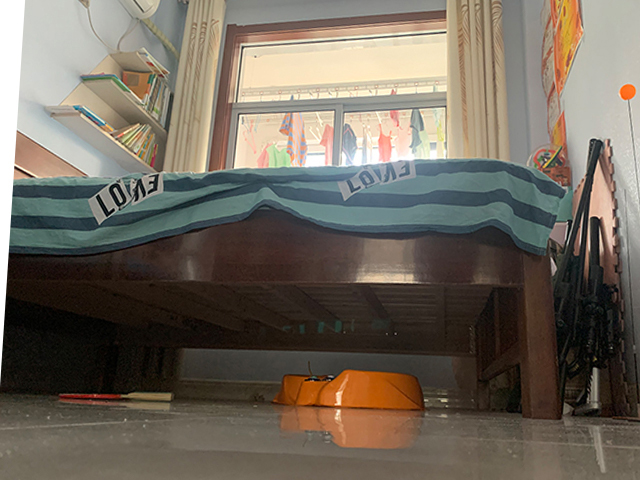bed: (9, 131, 569, 421)
curtain: (153, 1, 222, 176), (440, 1, 509, 166)
